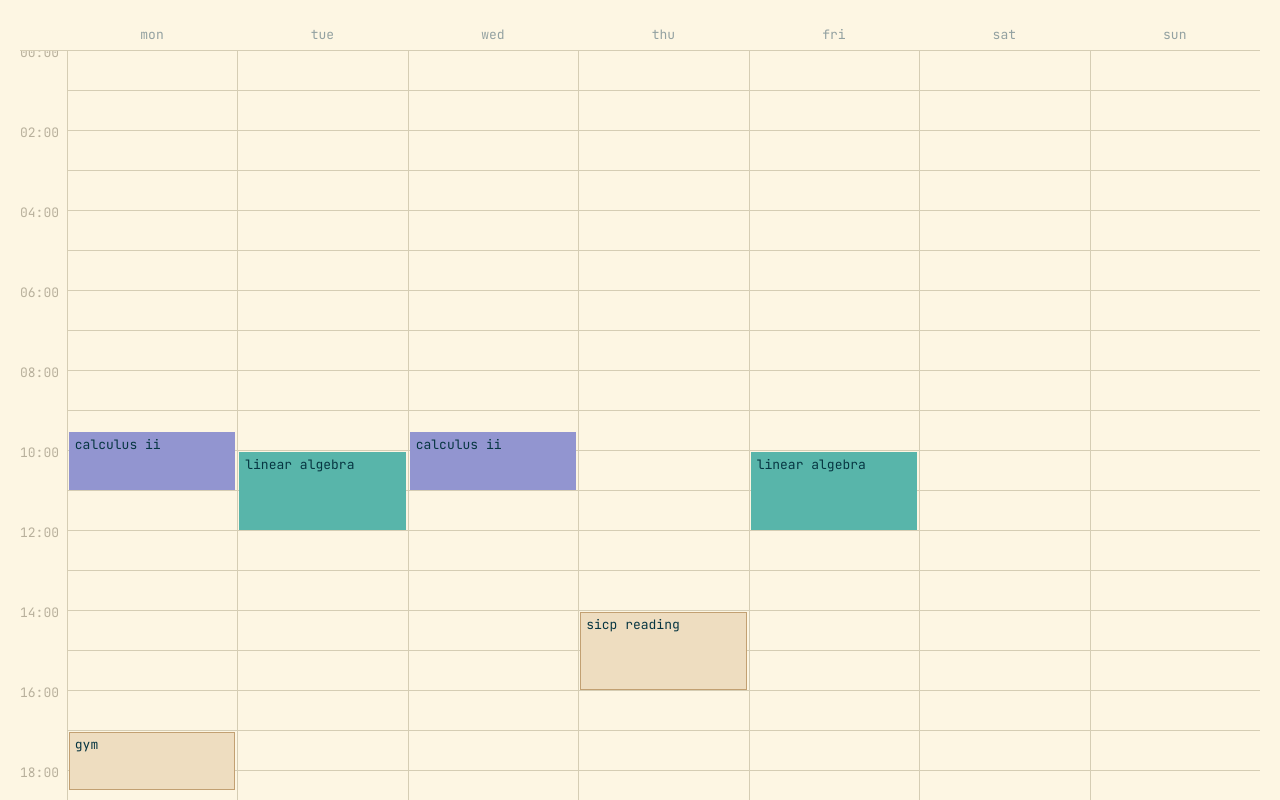
Test: SchedulePage › opens the edit form in a popover beside the clicked block
Click the text "gym".
click(152, 761)  # box [69,732,235,790]
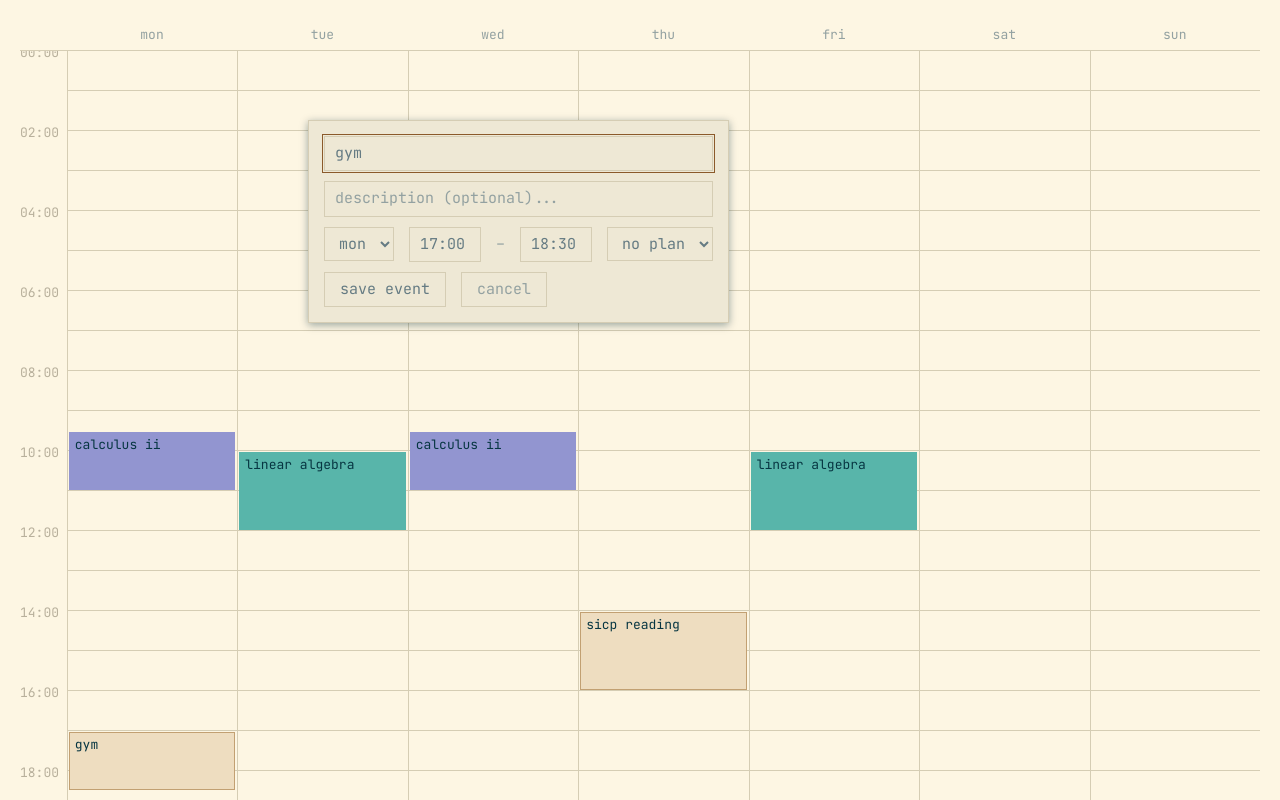
expect the element named "event title" is shown: met, box [308,120,729,323]
